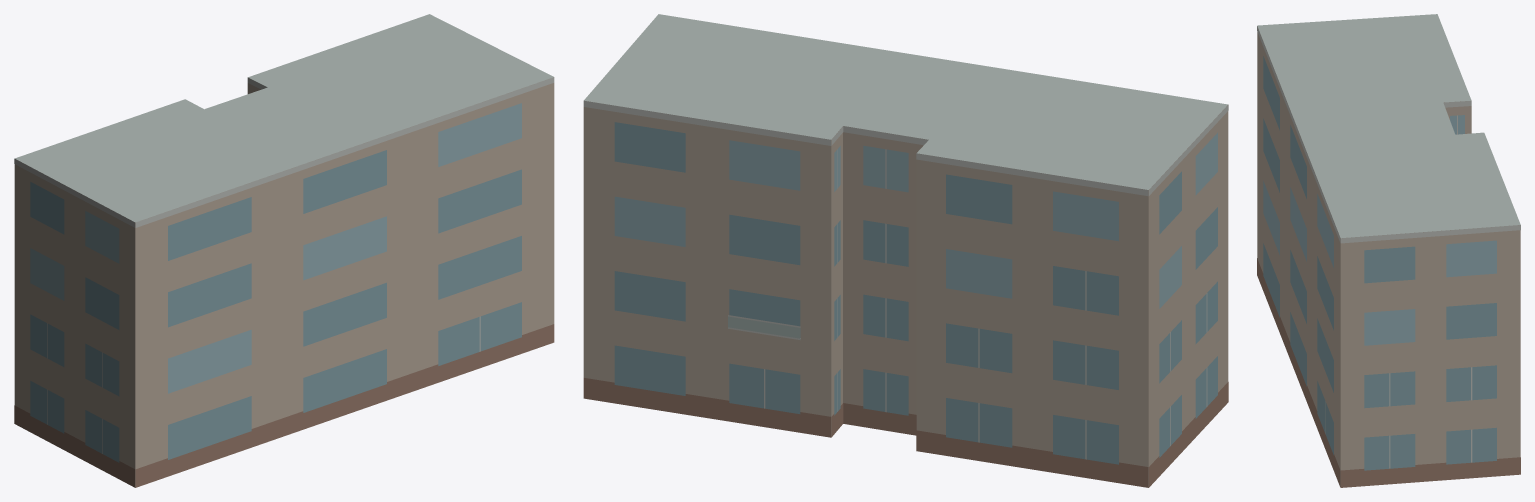
The model's file is survey-upis-33047337.glb.
3 views of the same model, side by side, from view 1: azimuth 30°, elevation 25°; view 2: azimuth 150°, elevation 25°; view 3: azimuth 270°, elevation 25° (orthographic). The views are drawn at different scales.
Visible parts, largest first — view 1: survey-upis-33047337.tmp; view 2: survey-upis-33047337.tmp; view 3: survey-upis-33047337.tmp.
Part boxes in pixels (<box>): survey-upis-33047337.tmp: <box>14,14,554,487</box>; survey-upis-33047337.tmp: <box>583,14,1228,487</box>; survey-upis-33047337.tmp: <box>1257,14,1520,487</box>.
Size of the model in its own units: 22.35 by 11.6 by 11.11.
